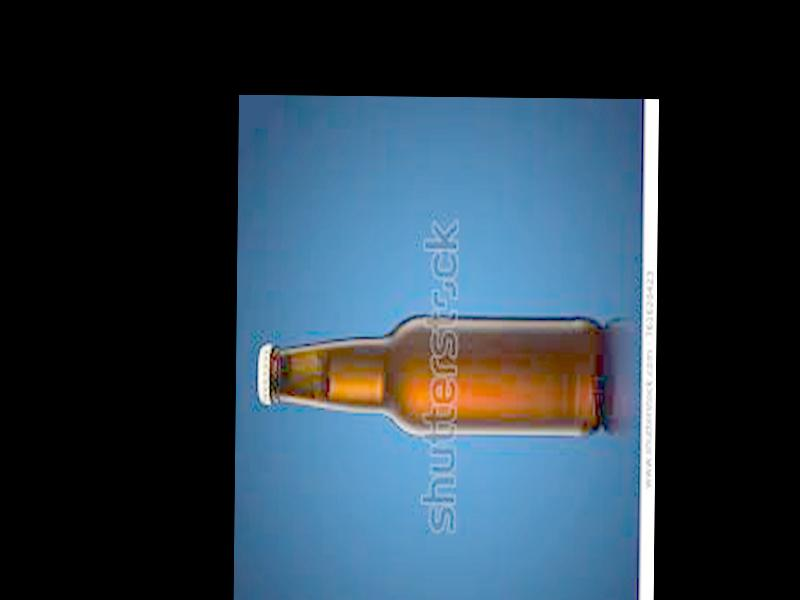Beer: (255, 312, 603, 437)
